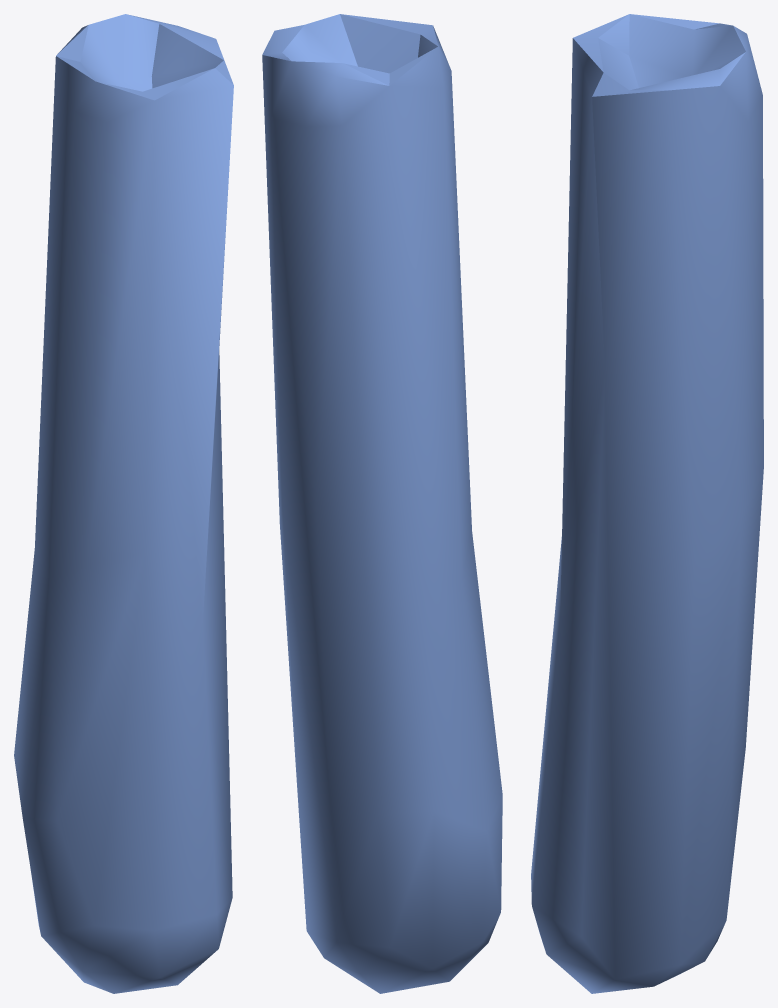
The model's file is veines-cou.lo.glb.
3 views of the same model, side by side, from view 1: azimuth 30°, elevation 25°; view 2: azimuth 150°, elevation 25°; view 3: azimuth 270°, elevation 25° (orthographic). The views are drawn at different scales.
Visible parts, largest first — view 1: FJ3585; view 2: FJ3585; view 3: FJ3585.
Part boxes in pixels (x1,y1,x2,y2): FJ3585: (14,14,233,993); FJ3585: (262,14,502,993); FJ3585: (531,14,763,993).
Bounding box in the file's own units: 0.00928 × 0.0408 × 0.009.
